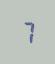seven: (19, 19, 33, 44)
